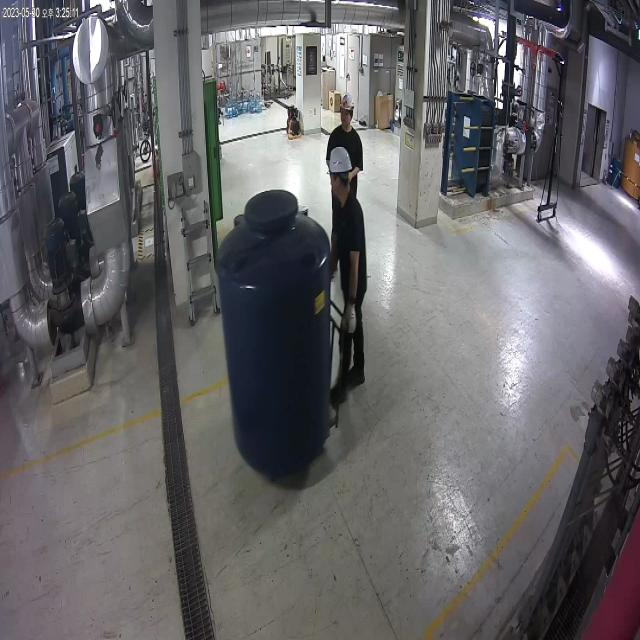Water Tank: (210, 180, 350, 490)
worker: (319, 138, 374, 415), (322, 83, 368, 282)
